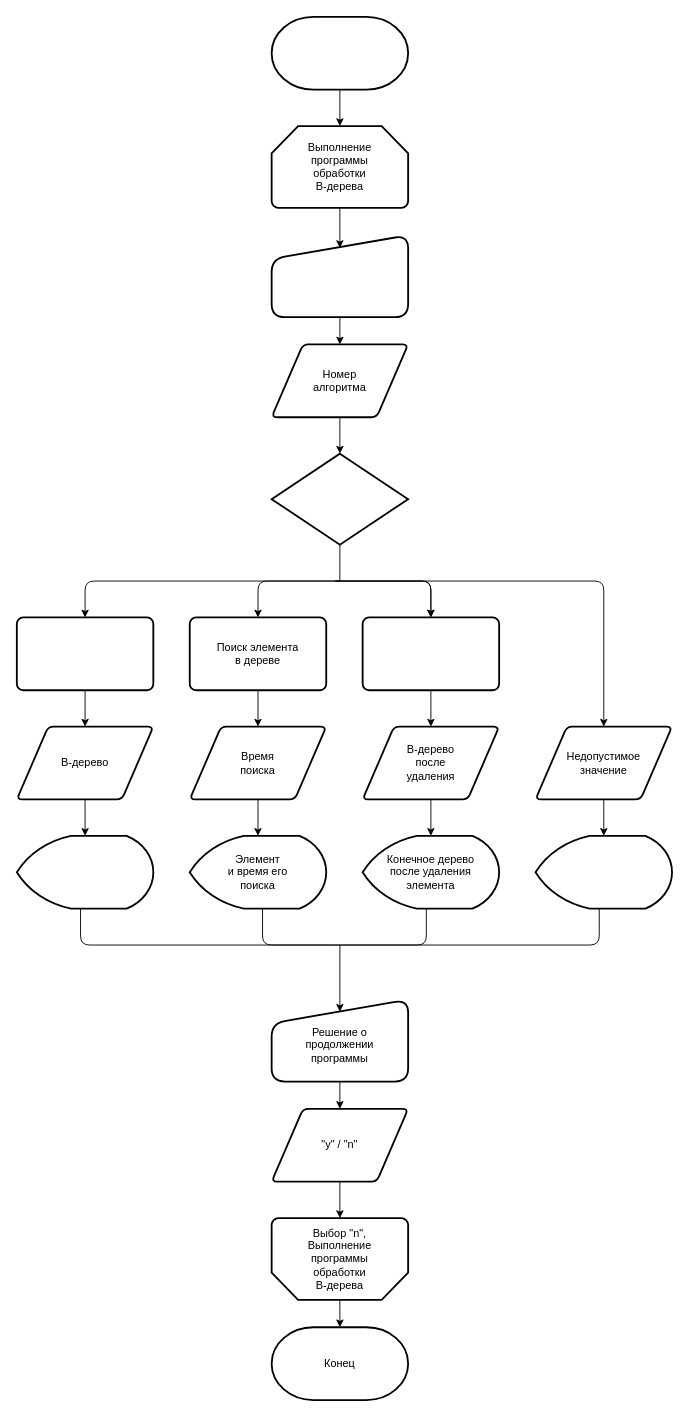
Image size: 688x1416. Some labels were removed from this diagram. Each missing label, with the centre of its shape:
"Incorrect value": (603,871)
Выбор алгоритма обработки: (339,276)
Начало: (339,52)
Операции: (339,498)
Построение В-дерева n-элементов: (84,653)
Структура В-дерева: (84,871)
Удаление элемента(ов): (430,653)
